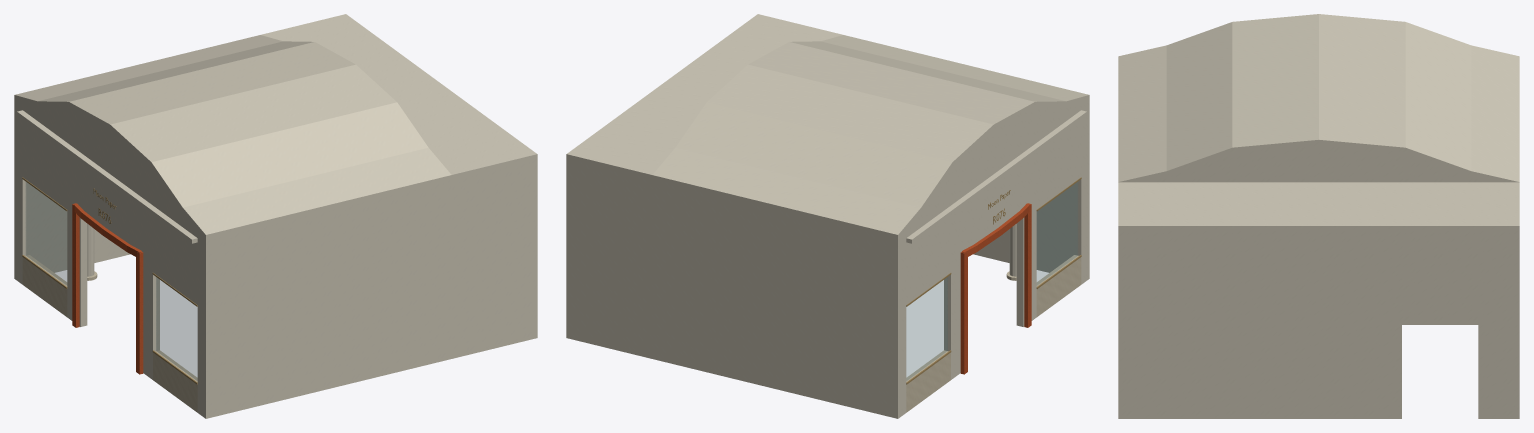
Rendered from SHOP_D09_S100_F392__shell.glb.
The picture shows the model from 3 angles, left to right: view 1: azimuth 30°, elevation 25°; view 2: azimuth 150°, elevation 25°; view 3: azimuth 270°, elevation 25°; orthographic projection. The views are drawn at different scales.
Visible parts, largest first — view 1: SHOP_D09_S100_F392__shell__ivory_enamel, SHOP_D09_S100_F392__shell__shop_glass, SHOP_D09_S100_F392__shell__warm_stone, SHOP_D09_S100_F392__shell__retail_terracotta_enamel, SHOP_D09_S100_F392__shell__champagne_metal; view 2: SHOP_D09_S100_F392__shell__ivory_enamel, SHOP_D09_S100_F392__shell__shop_glass, SHOP_D09_S100_F392__shell__warm_stone, SHOP_D09_S100_F392__shell__retail_terracotta_enamel, SHOP_D09_S100_F392__shell__champagne_metal; view 3: SHOP_D09_S100_F392__shell__ivory_enamel.
Boxes of the visible parts, bbox=[...] form: SHOP_D09_S100_F392__shell__ivory_enamel: bbox=[14, 14, 537, 418]; SHOP_D09_S100_F392__shell__shop_glass: bbox=[26, 182, 197, 380]; SHOP_D09_S100_F392__shell__warm_stone: bbox=[22, 255, 197, 412]; SHOP_D09_S100_F392__shell__retail_terracotta_enamel: bbox=[72, 203, 143, 374]; SHOP_D09_S100_F392__shell__champagne_metal: bbox=[22, 177, 197, 384]; SHOP_D09_S100_F392__shell__ivory_enamel: bbox=[566, 14, 1089, 418]; SHOP_D09_S100_F392__shell__shop_glass: bbox=[906, 182, 1077, 380]; SHOP_D09_S100_F392__shell__warm_stone: bbox=[906, 255, 1081, 412]; SHOP_D09_S100_F392__shell__retail_terracotta_enamel: bbox=[960, 203, 1031, 374]; SHOP_D09_S100_F392__shell__champagne_metal: bbox=[906, 177, 1081, 384]; SHOP_D09_S100_F392__shell__ivory_enamel: bbox=[1118, 14, 1519, 418].
Bounding box in the file's own units: 11.86 × 7.5 × 11.6.
Materials: 6 (4 with a texture image).
